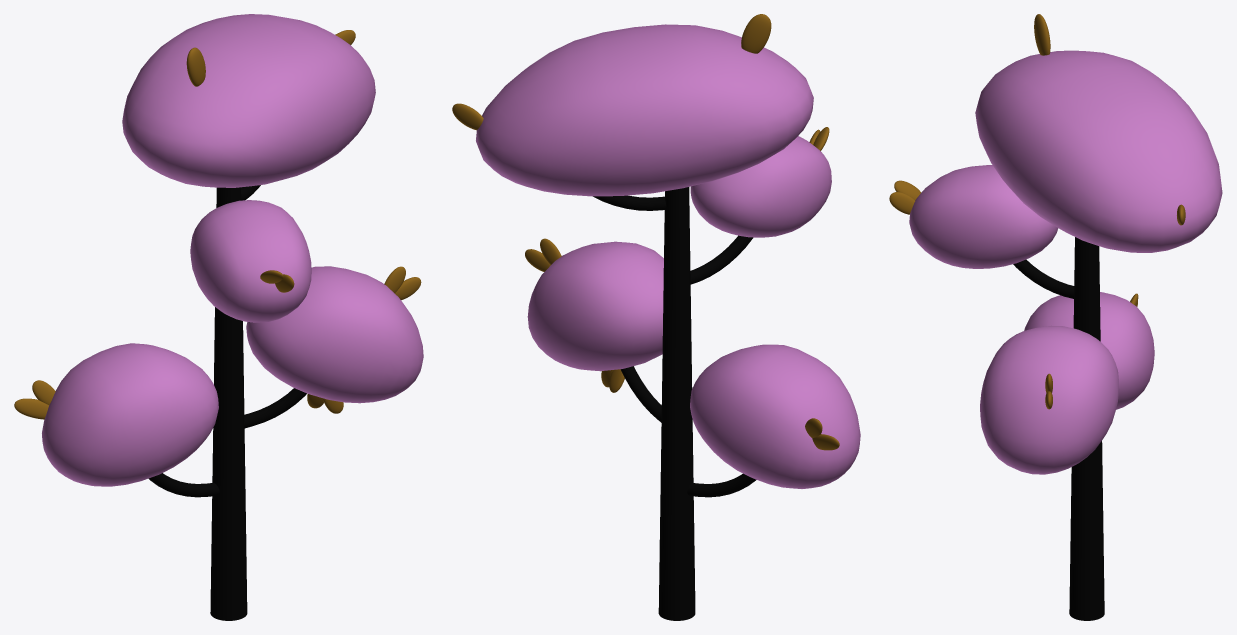
Rendered from Trees_1.fbx.
The picture shows the model from 3 angles, left to right: view 1: azimuth 30°, elevation 25°; view 2: azimuth 150°, elevation 25°; view 3: azimuth 270°, elevation 25°; orthographic projection. The views are drawn at different scales.
Parts seen in each view (by area): view 1: polySurface8 (×3); view 2: polySurface8 (×3); view 3: polySurface8 (×3).
Boxes of the visible parts, bbox=[...] form: polySurface8 (×3): bbox=[14, 14, 423, 620]; polySurface8 (×3): bbox=[452, 14, 860, 620]; polySurface8 (×3): bbox=[889, 14, 1222, 620].
Bounding box in the file's own units: 4.83 × 7.55 × 4.
